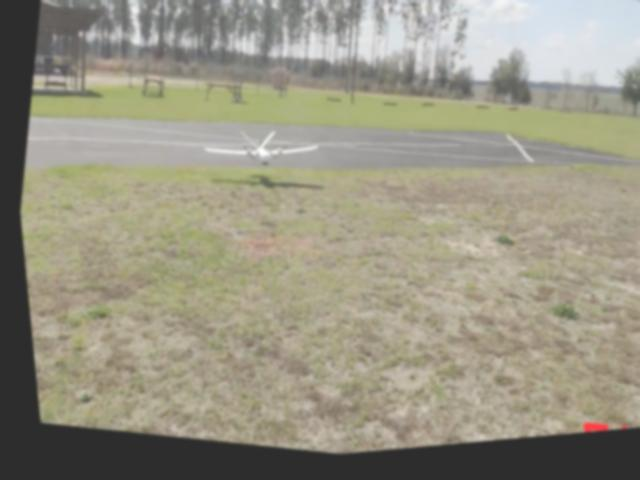plane: (196, 118, 316, 187)
